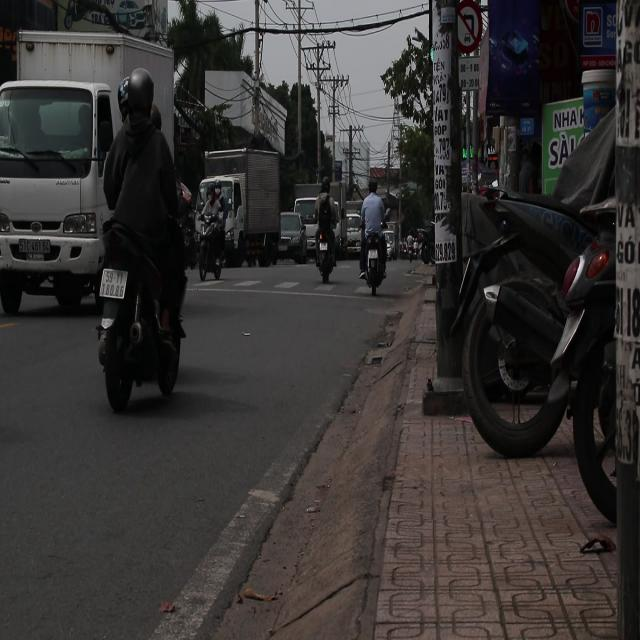car: (280, 214, 308, 262), (342, 211, 363, 254)
motorbike: (94, 214, 186, 410), (347, 231, 405, 299)
truck: (0, 73, 114, 309), (199, 146, 283, 271), (291, 171, 332, 262)
